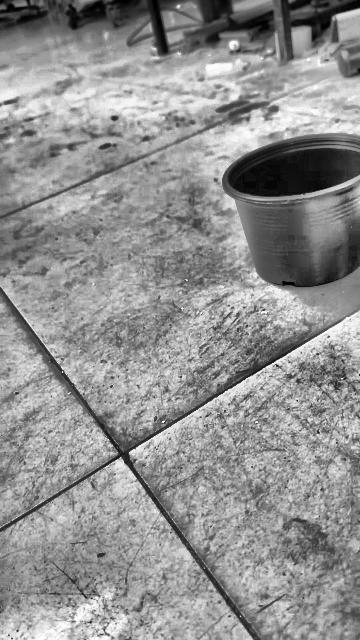pot: (222, 134, 360, 287)
